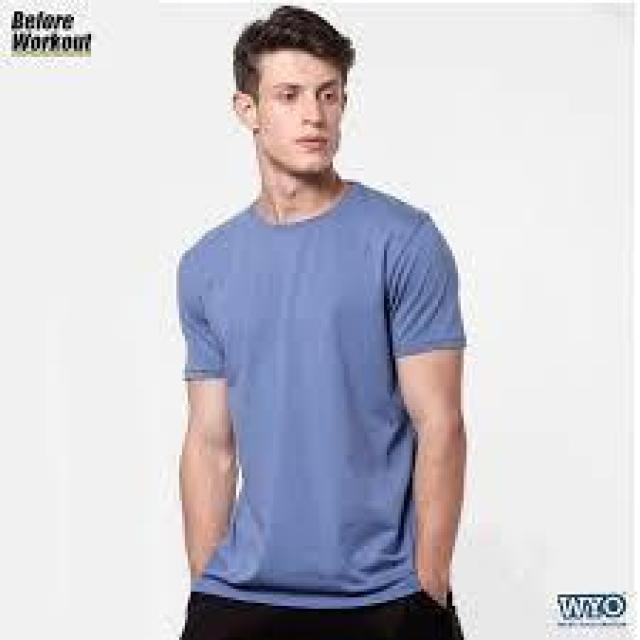Tshirt: (155, 170, 462, 612)
